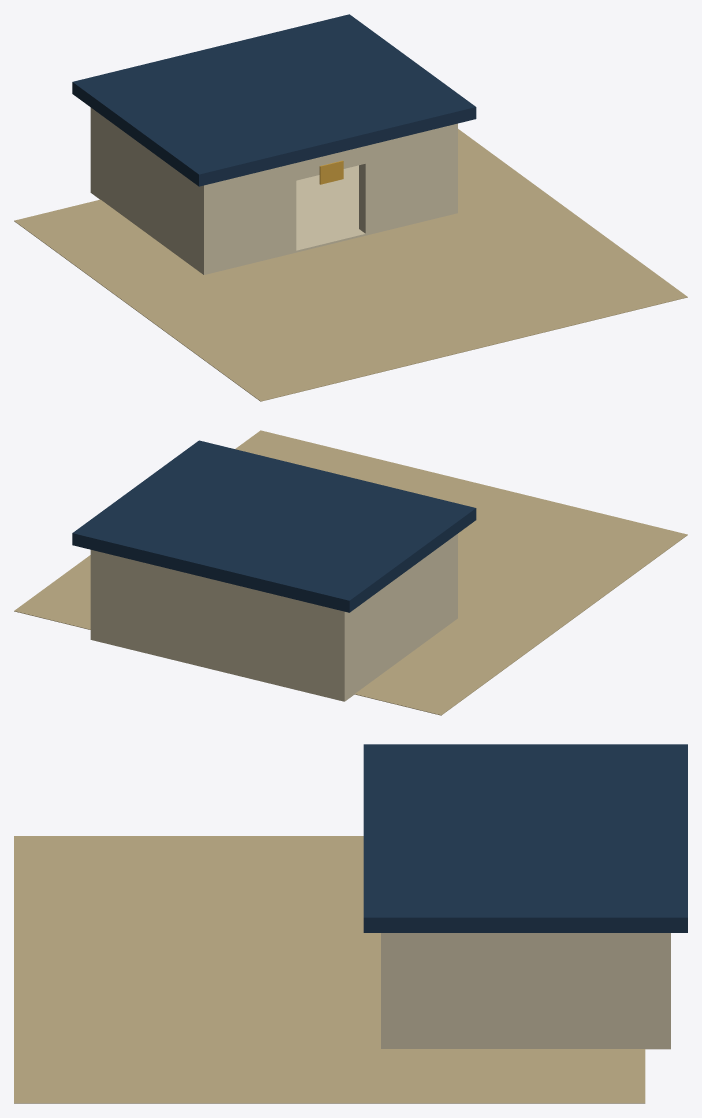
The model's file is crown_road_abandonedhall.glb.
The picture shows the model from 3 angles, top to bottom: view 1: azimuth 30°, elevation 25°; view 2: azimuth 150°, elevation 25°; view 3: azimuth 270°, elevation 25°; orthographic projection. The views are drawn at different scales.
Visible parts, largest first — view 1: crown_road_abandonedhall; view 2: crown_road_abandonedhall; view 3: crown_road_abandonedhall.
Boxes of the visible parts, bbox=[...] form: crown_road_abandonedhall: bbox=[14, 14, 687, 401]; crown_road_abandonedhall: bbox=[14, 430, 687, 715]; crown_road_abandonedhall: bbox=[14, 744, 687, 1103].
Bounding box in the file's own units: 74 × 18 × 79.
